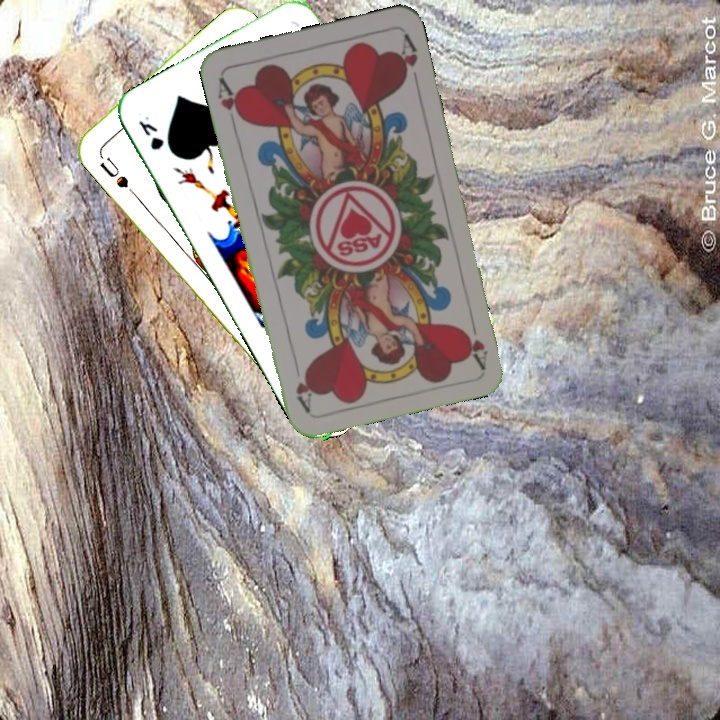GK: (134, 112, 167, 153)
HA: (214, 73, 246, 131), (460, 311, 490, 370)
SU: (94, 147, 131, 191)
